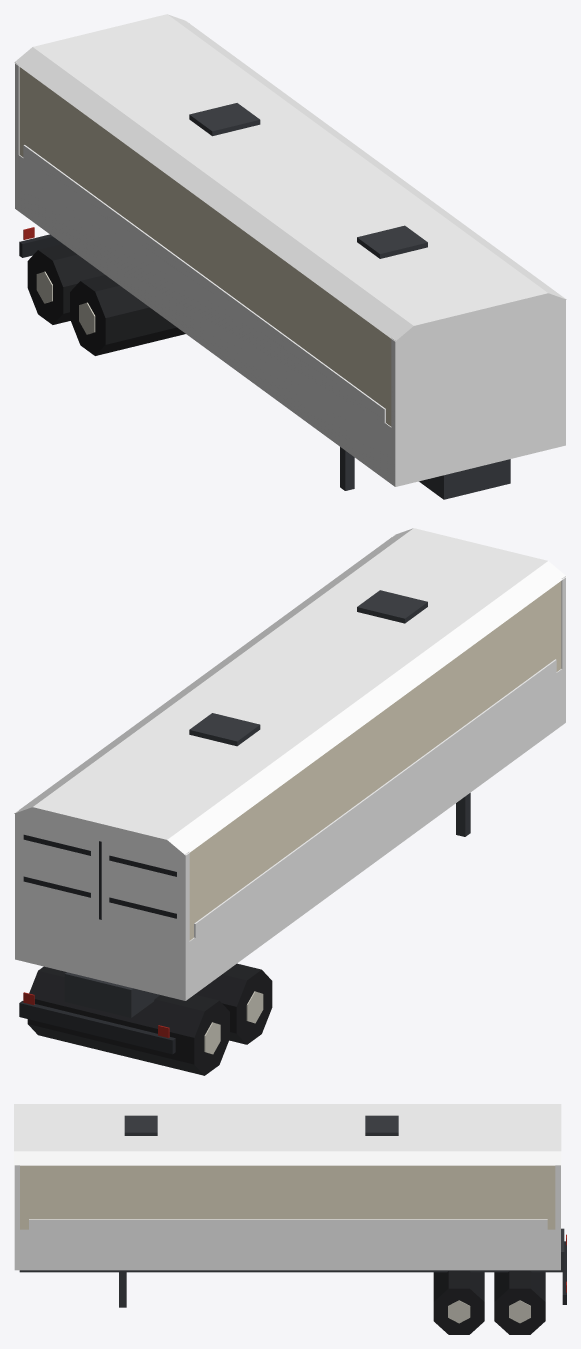
File: rt_reefer_b.glb
3 views of the same model, one above another, from view 1: azimuth 30°, elevation 25°; view 2: azimuth 150°, elevation 25°; view 3: azimuth 270°, elevation 25° (orthographic). The views are drawn at different scales.
Visible parts, largest first — view 1: model; view 2: model; view 3: model.
Boxes of the visible parts, x1,y1,x2,y2 form: model: [14, 14, 566, 499]; model: [14, 528, 566, 1075]; model: [14, 1104, 566, 1334].
Size of the model in its own units: 2.58 by 3.62 by 10.
